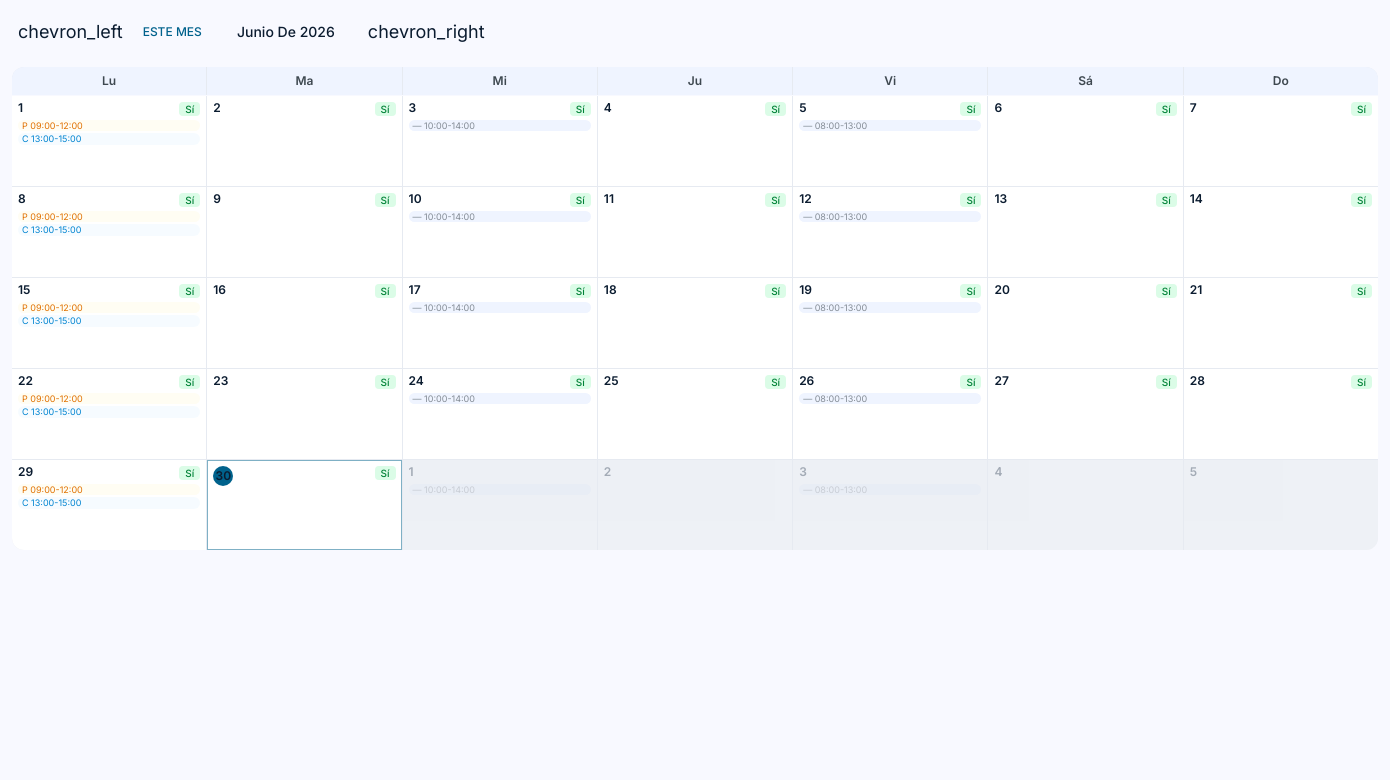
CalendarGrid › hides batch badge after successful batch save
The width and height of the screenshot is (1390, 780).
Click the 1st text "1".
click(21, 108)  # box [18,102,23,114]
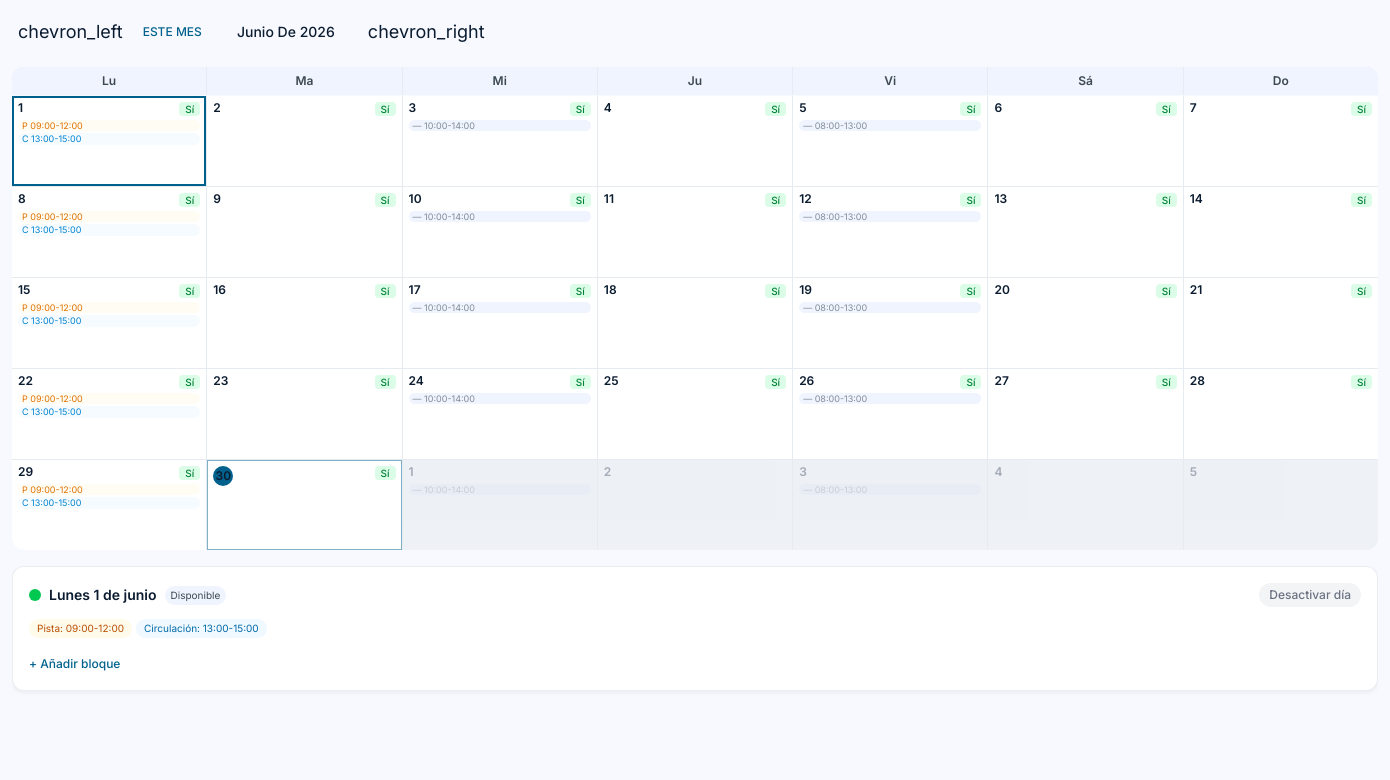
Now the text "Disponible" is shown, box [164,586,226,604]
Click the button "+ Añadir bloque".
click(75, 664)  # box [29,656,120,672]
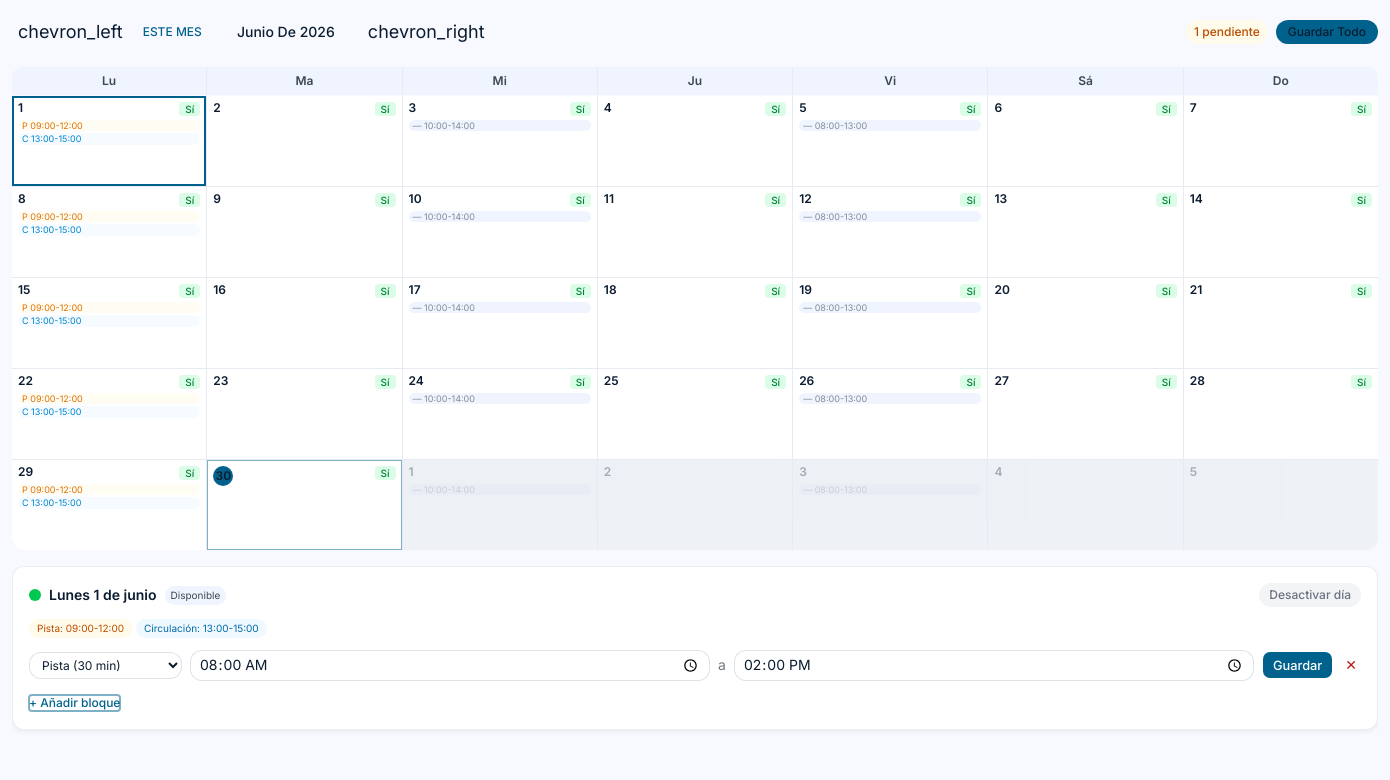
Now the button "Guardar Todo" is shown
Click the button "Guardar Todo".
click(1327, 32)  # box [1276,20,1378,44]
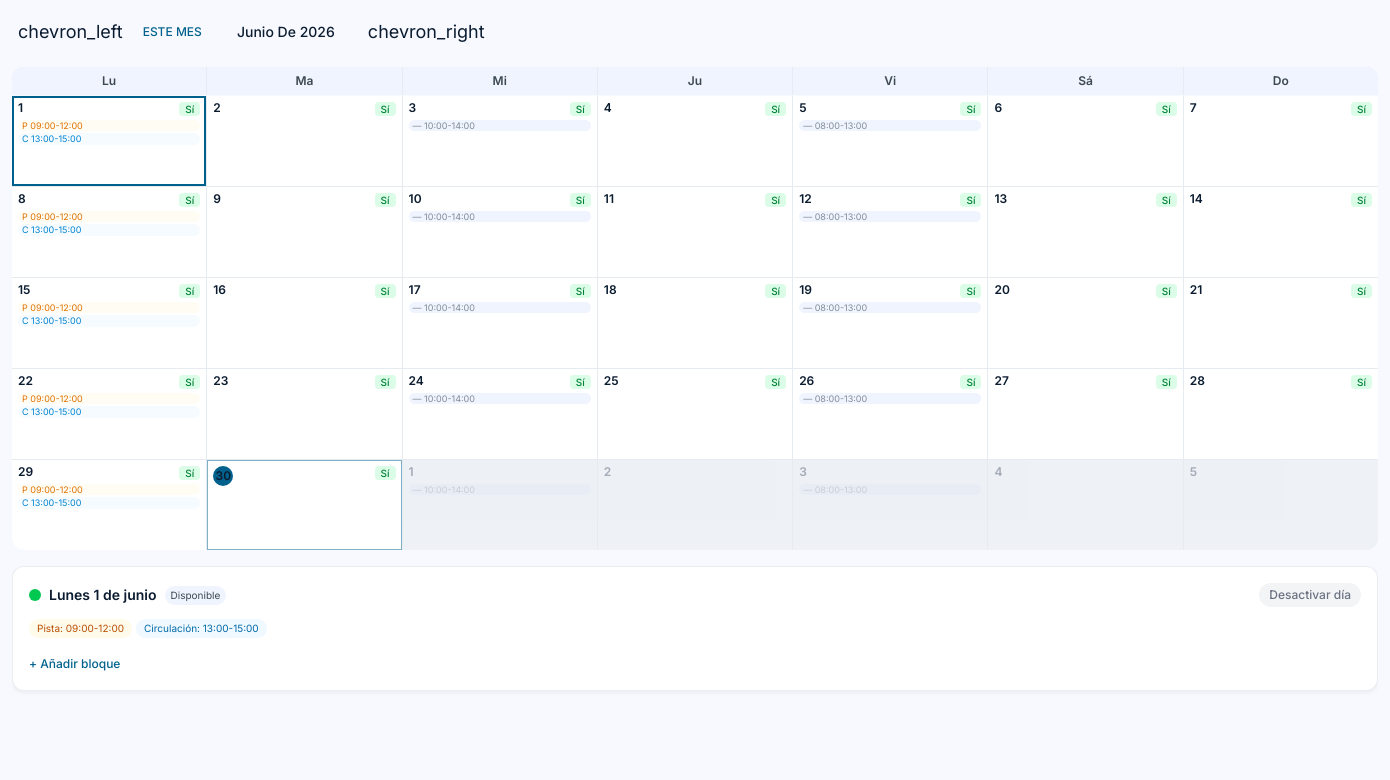
Now the text "pendiente" is gone
Now the button "Guardar Todo" is gone
